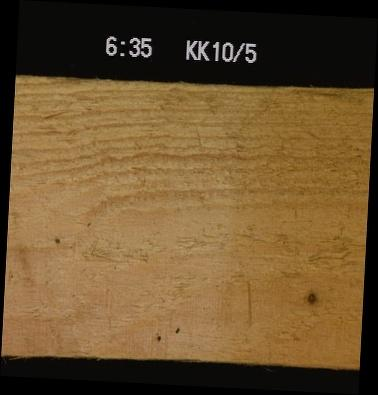small_knot: (50, 232, 62, 247), (81, 218, 96, 230), (151, 330, 163, 342), (169, 324, 182, 335)
